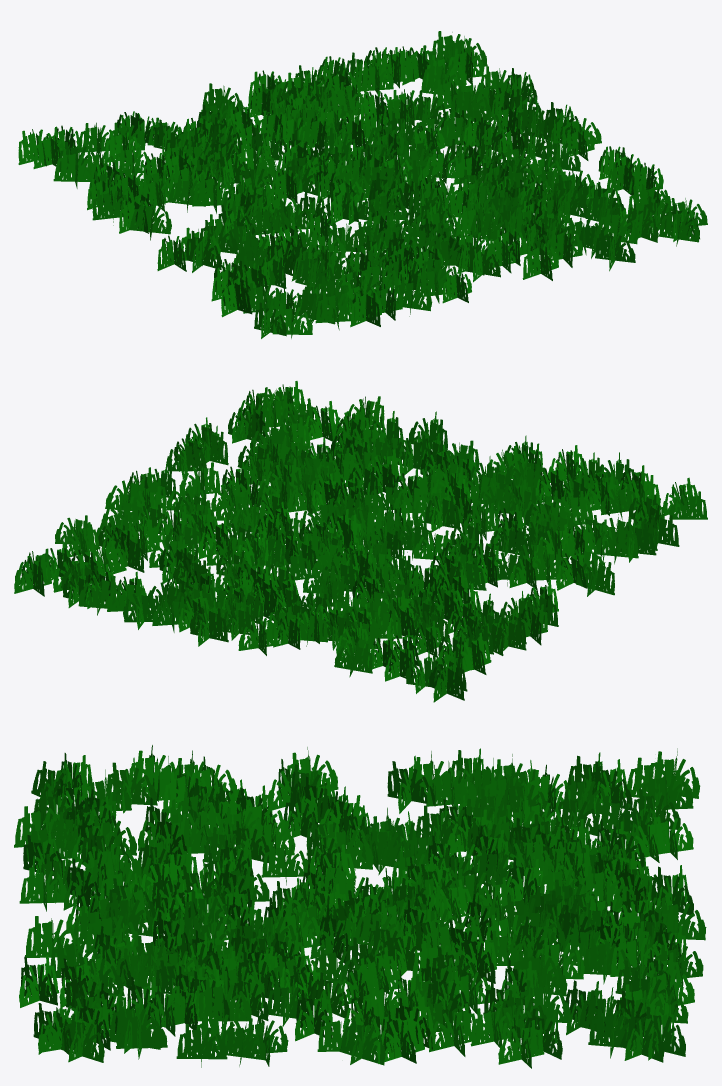
Rendered from GrassPatchFix.fbx.
3 views of the same model, one above another, from view 1: azimuth 30°, elevation 25°; view 2: azimuth 150°, elevation 25°; view 3: azimuth 270°, elevation 25° (orthographic). The views are drawn at different scales.
Parts seen in each view (by area): view 1: Grass.157; view 2: Grass.157; view 3: Grass.157.
Part boxes in pixels (x1,y1,x2,y2): Grass.157: [18, 31, 707, 338]; Grass.157: [14, 381, 707, 702]; Grass.157: [14, 745, 706, 1068].
Size of the model in its own units: 542 by 543 by 49.82.
